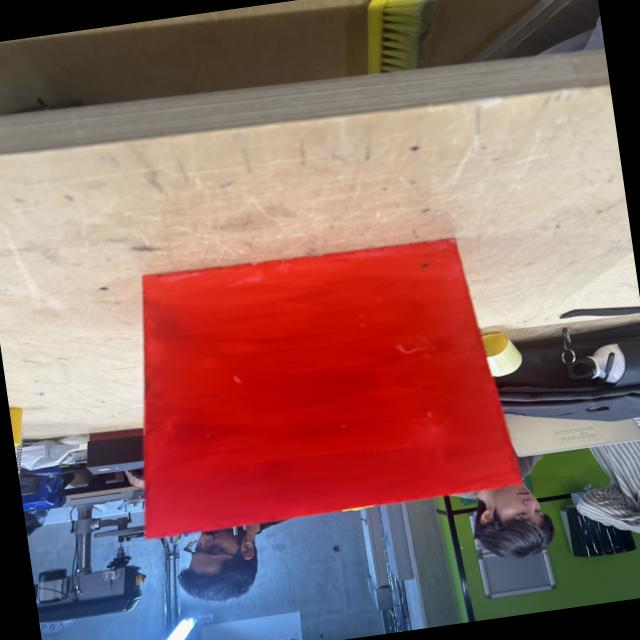red_bin: (107, 225, 525, 540)
